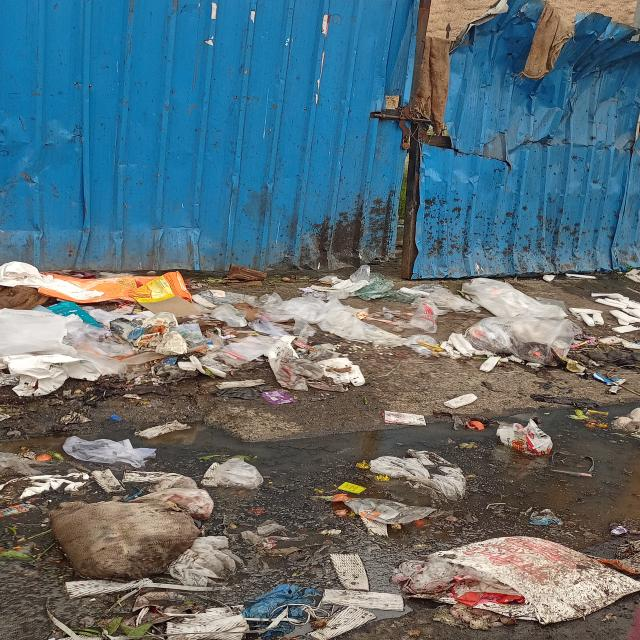garbage: (4, 435, 640, 640), (0, 262, 640, 394)
